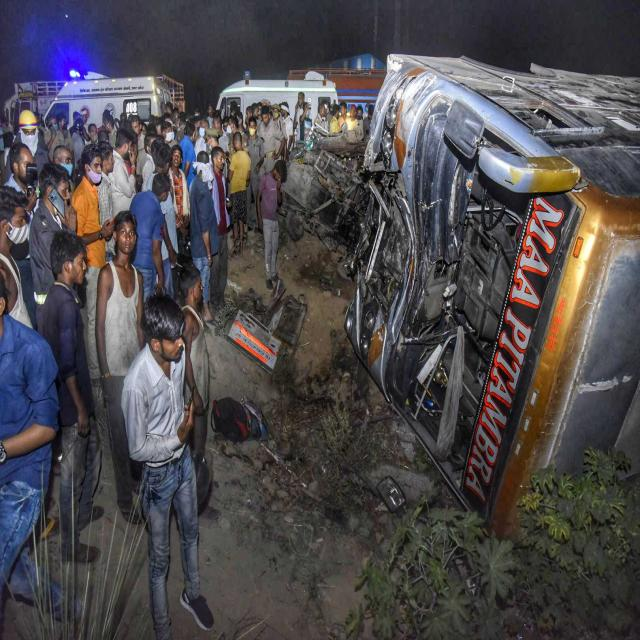accident: (345, 54, 640, 536), (282, 128, 369, 252)
emergency: (216, 69, 339, 120), (44, 77, 172, 126)
